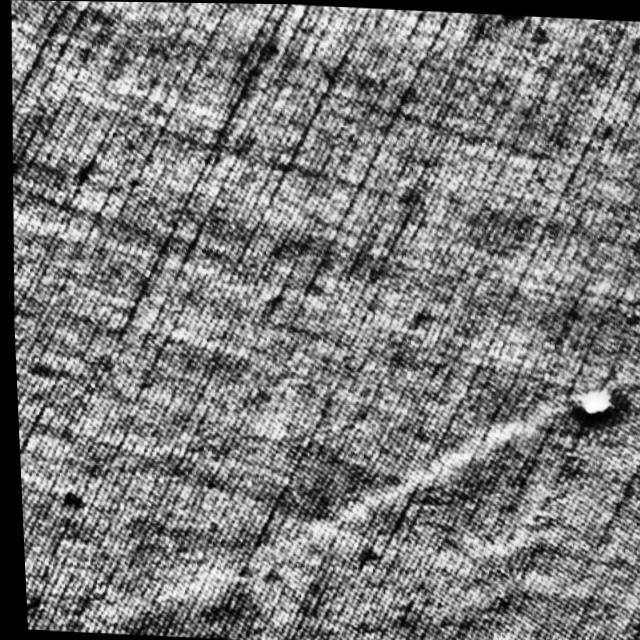Hole: (559, 378, 625, 421)
